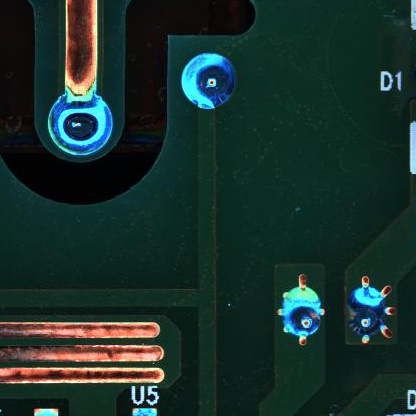spot: (46, 93, 114, 158), (346, 276, 397, 346), (275, 274, 323, 347), (180, 52, 236, 109)
